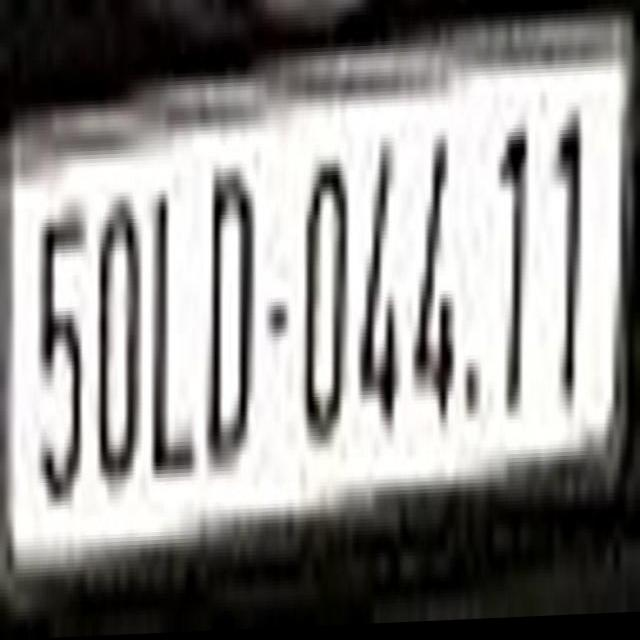0: (294, 147, 346, 467), (96, 193, 142, 501)
1: (496, 90, 528, 487), (552, 100, 581, 419)
4: (357, 126, 398, 472), (418, 154, 462, 474)
5: (40, 214, 84, 519)
D: (205, 154, 256, 505)
L: (148, 191, 196, 484)
